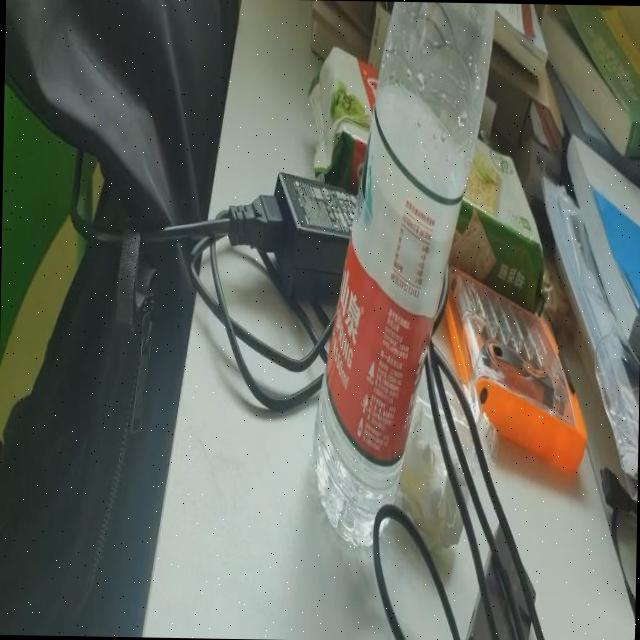bottle: (309, 0, 502, 551)
label: (328, 96, 452, 462)
